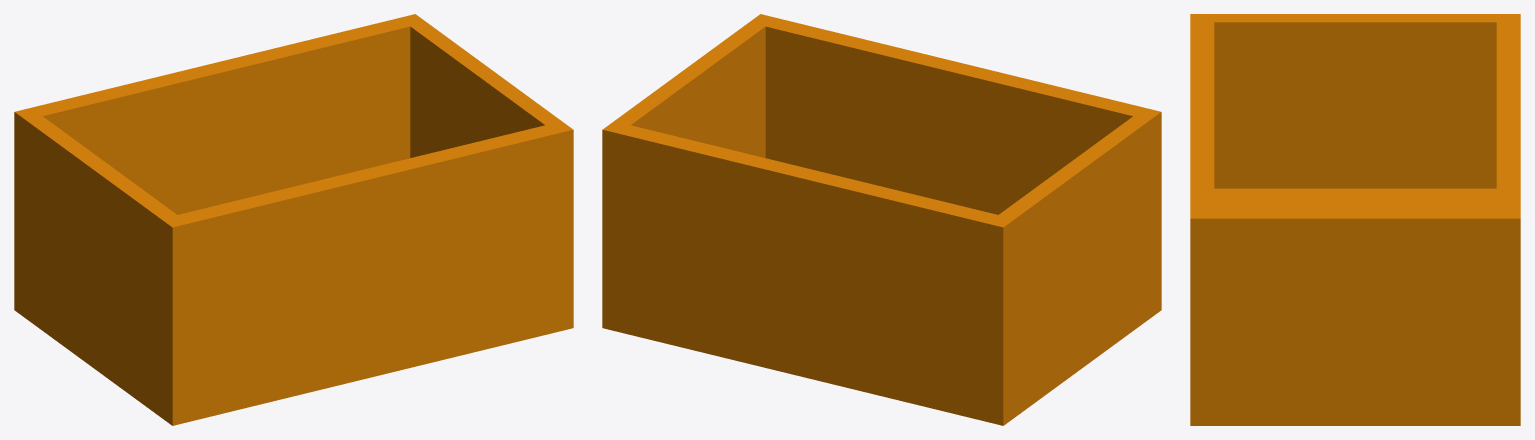
Rendered from Box without Lid.fbx.
The picture shows the model from 3 angles, left to right: view 1: azimuth 30°, elevation 25°; view 2: azimuth 150°, elevation 25°; view 3: azimuth 270°, elevation 25°; orthographic projection. The views are drawn at different scales.
Visible parts, largest first — view 1: polySurface1; view 2: polySurface1; view 3: polySurface1.
Boxes of the visible parts, x1=… form: polySurface1: x1=14, y1=14, x2=573, y2=425; polySurface1: x1=602, y1=14, x2=1161, y2=425; polySurface1: x1=1190, y1=14, x2=1520, y2=425.
Size of the model in its own units: 1.41 by 0.6689 by 0.9657.
